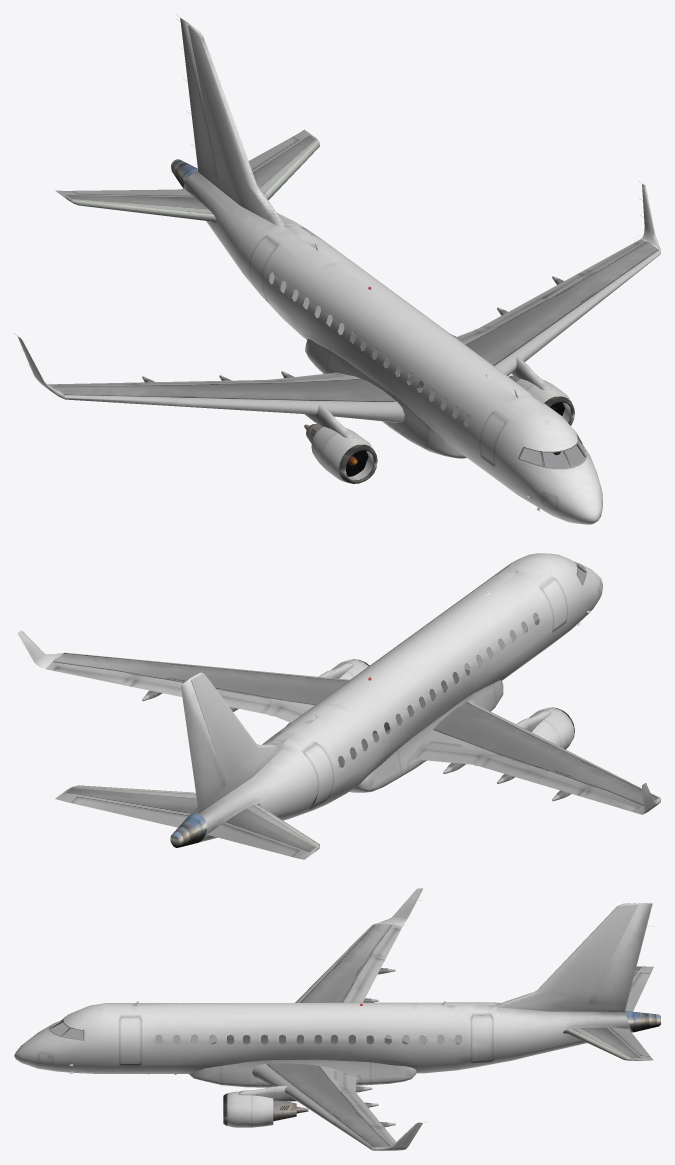
3 views of the same model, one above another, from view 1: azimuth 30°, elevation 25°; view 2: azimuth 150°, elevation 25°; view 3: azimuth 270°, elevation 25° (orthographic). The views are drawn at different scales.
Parts seen in each view (by area): view 1: rudder, apu.exhaust, box, box.003, cylinder.003; view 2: rudder, apu.exhaust, box, box.003, cylinder.003; view 3: rudder, apu.exhaust, box, box.003, cylinder.003.
Boxes of the visible parts, bbox=[...] form: rudder: bbox=[177, 15, 602, 524]; apu.exhaust: bbox=[48, 129, 660, 466]; box: bbox=[17, 184, 660, 483]; box.003: bbox=[142, 276, 587, 475]; cylinder.003: bbox=[269, 272, 585, 466]; rudder: bbox=[177, 553, 602, 842]; apu.exhaust: bbox=[46, 565, 659, 859]; box: bbox=[18, 630, 660, 814]; box.003: bbox=[142, 561, 586, 801]; cylinder.003: bbox=[338, 562, 585, 767]; rudder: bbox=[14, 903, 653, 1087]; apu.exhaust: bbox=[51, 923, 660, 1149]; box: bbox=[223, 888, 422, 1150]; box.003: bbox=[49, 968, 395, 1127]; cylinder.003: bbox=[51, 1018, 461, 1044].
Bounding box in the file's own units: 25.56 × 9.45 × 29.8.
Materials: 8 (4 with a texture image).
